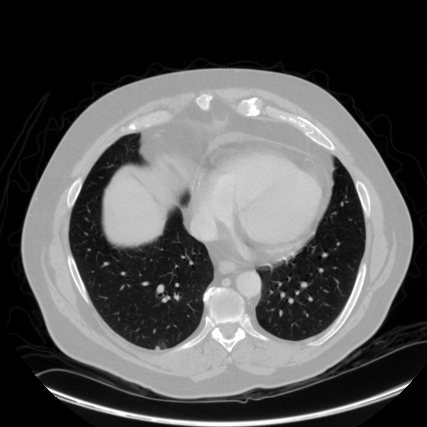nodule: (155, 345, 159, 349)
